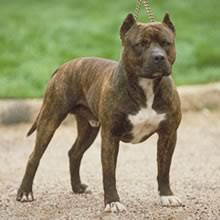am_pit_bull_terrier: (15, 11, 185, 213)
